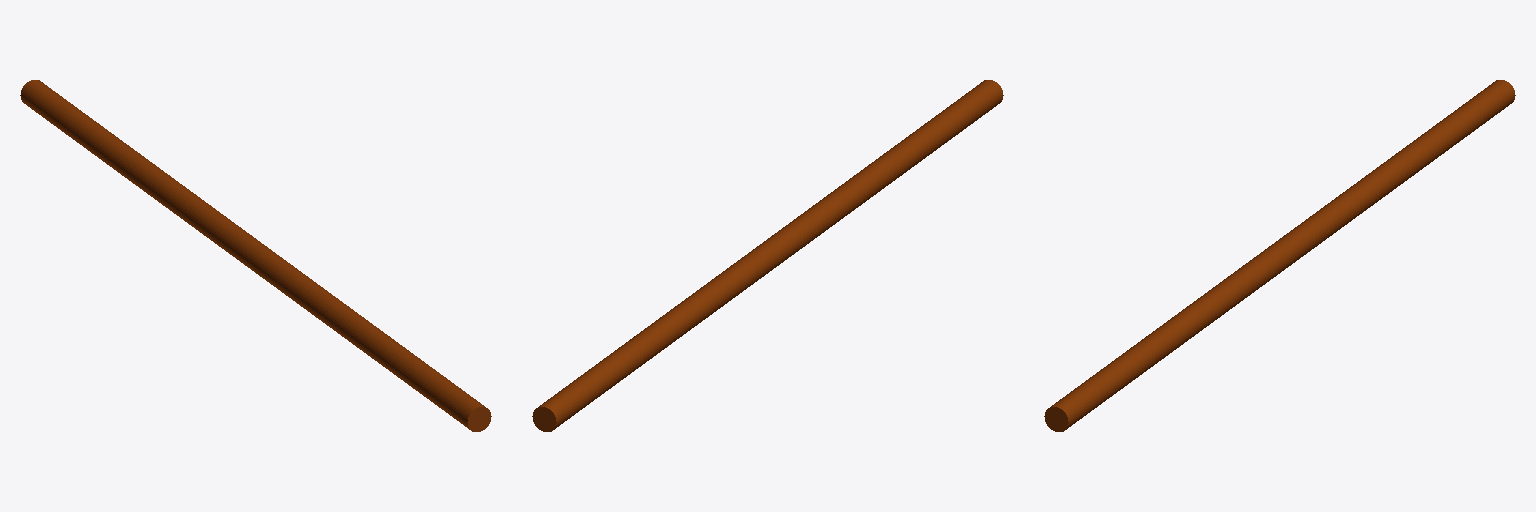
robot.urdf — cylinder:
<?xml version="1.0" ?>
<!-- =================================================================================== -->
<!-- |    This document was autogenerated by xacro from cylinder.xacro                 | -->
<!-- |    EDITING THIS FILE BY HAND IS NOT RECOMMENDED                                 | -->
<!-- =================================================================================== -->
<robot name="cylinder">
  <link name="world"/>
  <link name="base">
    <visual>
      <origin rpy="1.57079633 0 0" xyz="0 0 0"/>
      <geometry>
        <cylinder length="7.07106781185" radius="0.11"/>
      </geometry>
      <material name="cylinder_material">
        <color rgba="0.545 0.271 0.075 1.0"/>
        <texture filename="../textures/tree_bark.jpg"/>
      </material>
    </visual>
    <collision>
      <origin rpy="1.57079633 0 0" xyz="0 0 0"/>
      <geometry>
        <cylinder length="7.07106781185" radius="0.11"/>
      </geometry>
    </collision>
    <inertial>
      <origin rpy="0 0 0" xyz="0 0 0"/>
      <mass value="1"/>
      <inertia ixx="4.169691666648428" ixy="0.0" ixz="0.0" iyy="4.169691666648428" iyz="0.0" izz="24.999999999890573"/>
    </inertial>
  </link>
  <joint name="base_joint" type="fixed">
    <parent link="world"/>
    <child link="base"/>
    <origin rpy="0 0 0" xyz="0.0 0.0 0.0"/>
  </joint>
</robot>

--- What the picture shows (computed from the rendered views, not written in the file) ---
Views: 3 orthographic renders of the robot side by side, from view 1: azimuth 30°, elevation 25°; view 2: azimuth 150°, elevation 25°; view 3: azimuth 330°, elevation 25°.
Robot: cylinder — 2 links, 1 joints (1 fixed); root link world; default pose: all joints at 0.
Visible links, largest first — view 1: base; view 2: base; view 3: base.
Link boxes in pixels (x1=…): base: x1=20, y1=80, x2=491, y2=431; base: x1=532, y1=80, x2=1003, y2=431; base: x1=1044, y1=80, x2=1515, y2=431.
Size in the robot's own frame: 0.22 by 7.07 by 0.22 metres.
Geometry: primitives only (box / cylinder / sphere), no mesh files.
